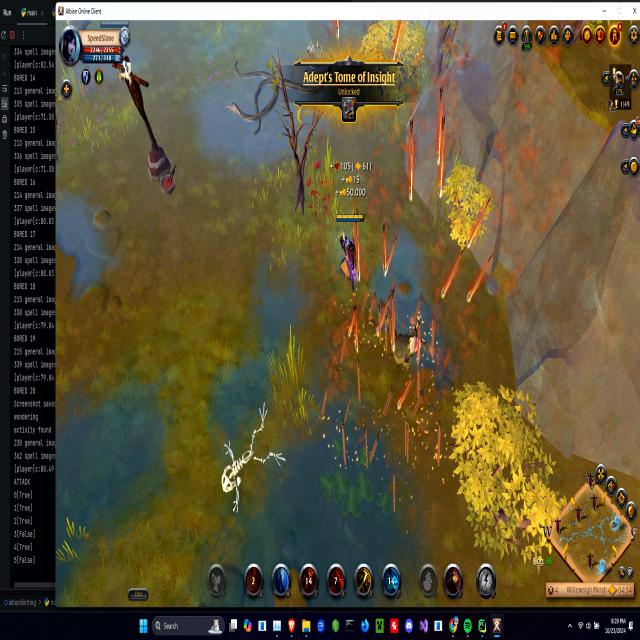red: (333, 205, 366, 292)
